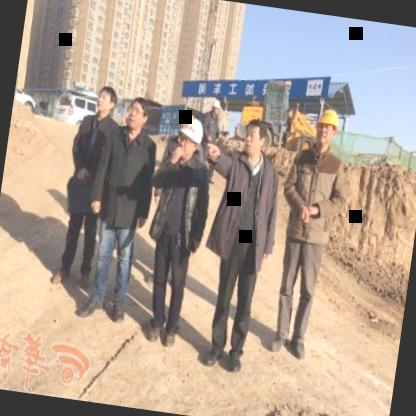helmet: (172, 116, 206, 161), (312, 105, 342, 150), (204, 95, 221, 117)
